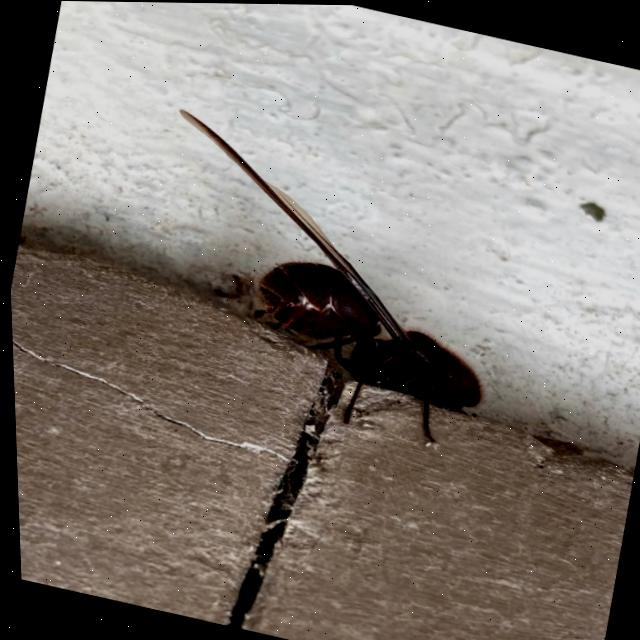Alive-Female-Alate: (120, 107, 531, 459)
